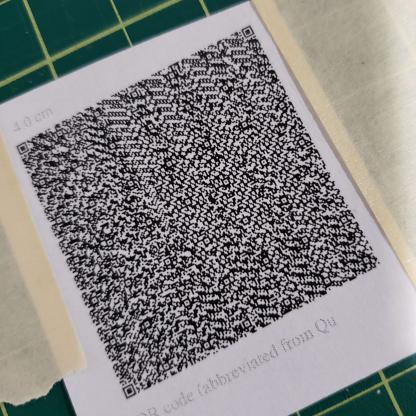qr: (9, 21, 389, 400)
